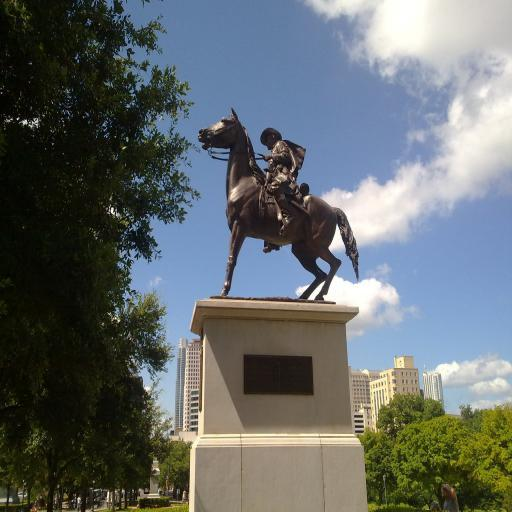Horse: (198, 107, 362, 297)
